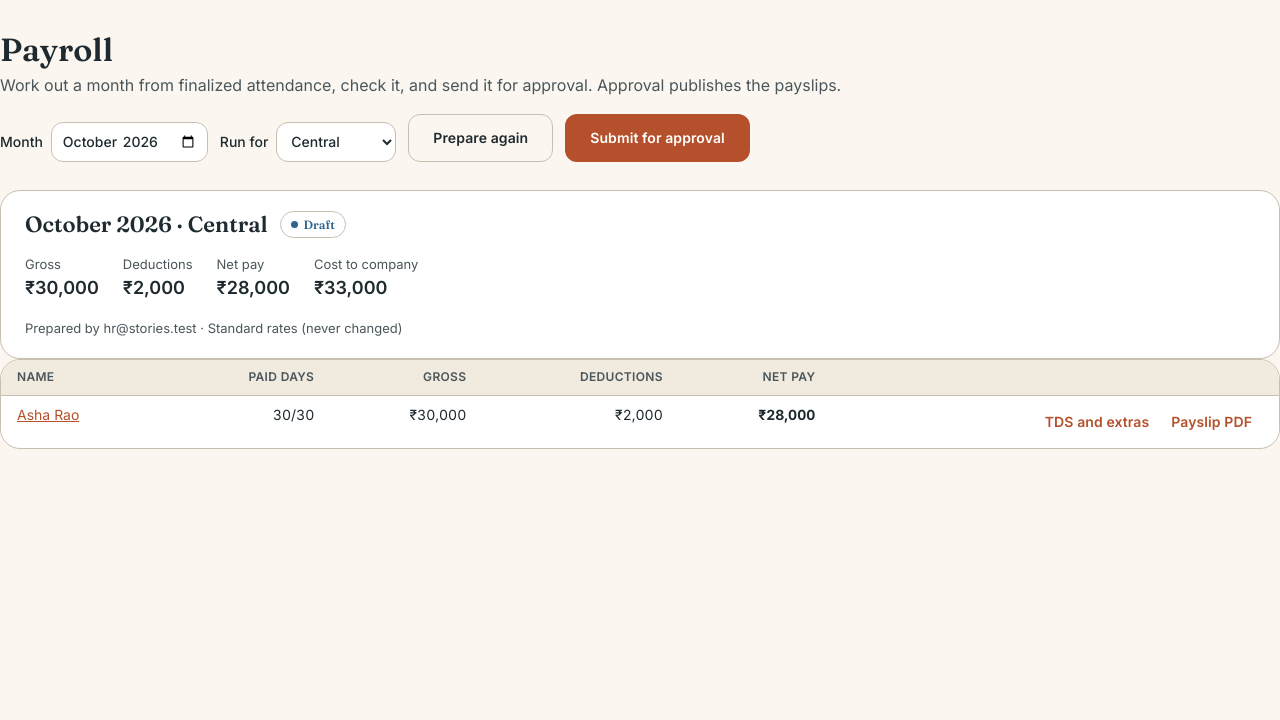
Scenario: TDS and extras › after a save the run is read again but not the payslips, and it counts as out of date at once
Click the button "TDS and extras": (1097,422) [1034,404,1160,440]
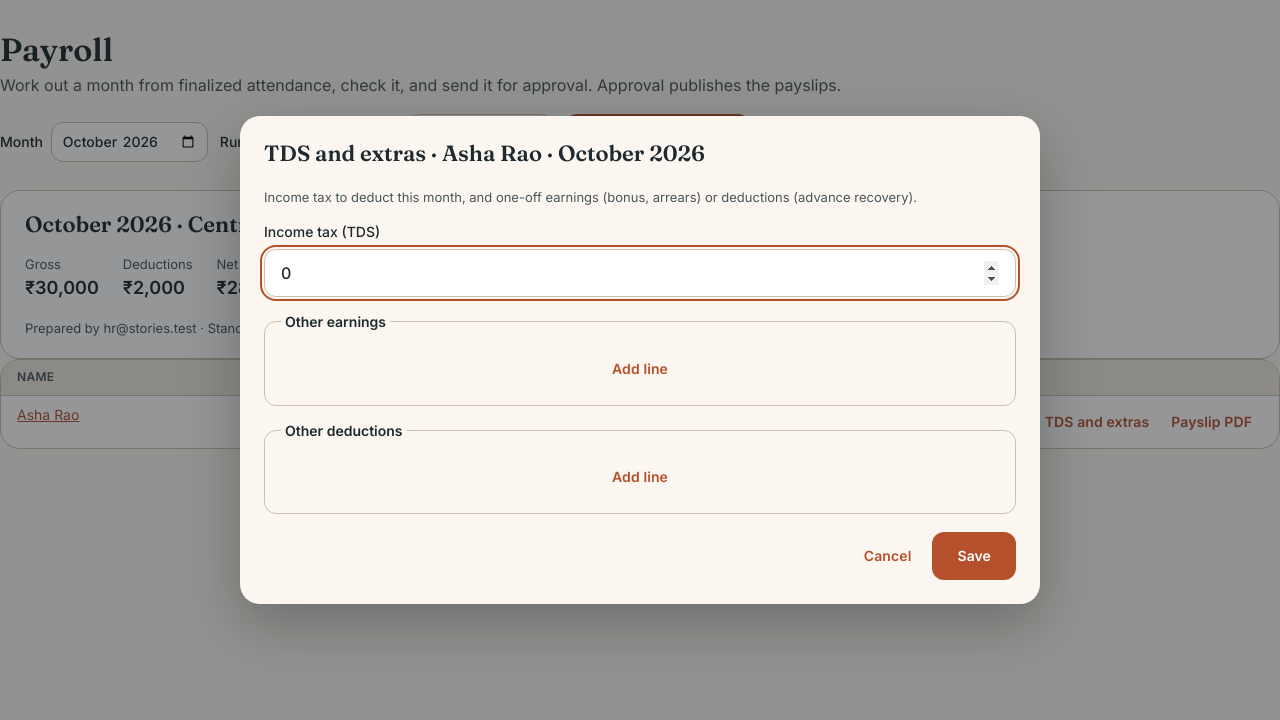
Check: the button "Submit for approval" is shown, box [565,114,750,162]
Replace the text in the number field labelled "Income tax (TDS)" with "1200": (640,273) [264,249,1016,297]
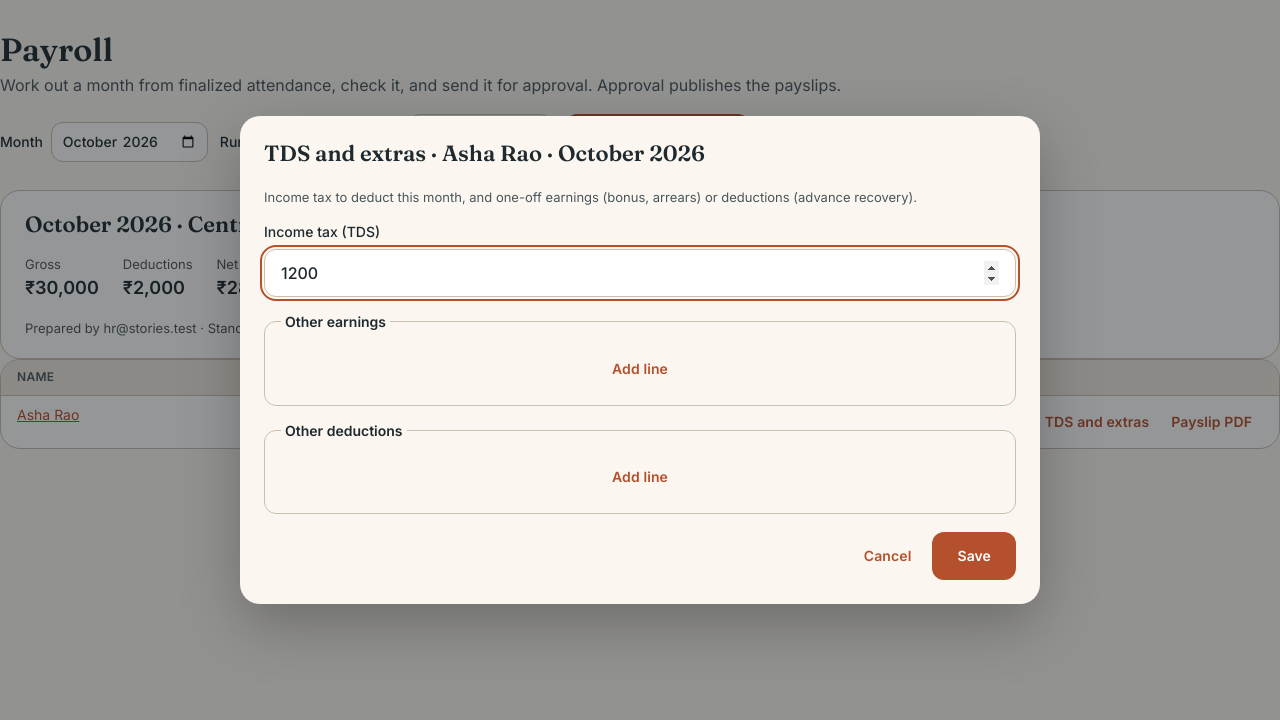
Click the button "Save": (974,556) [932,532,1016,580]
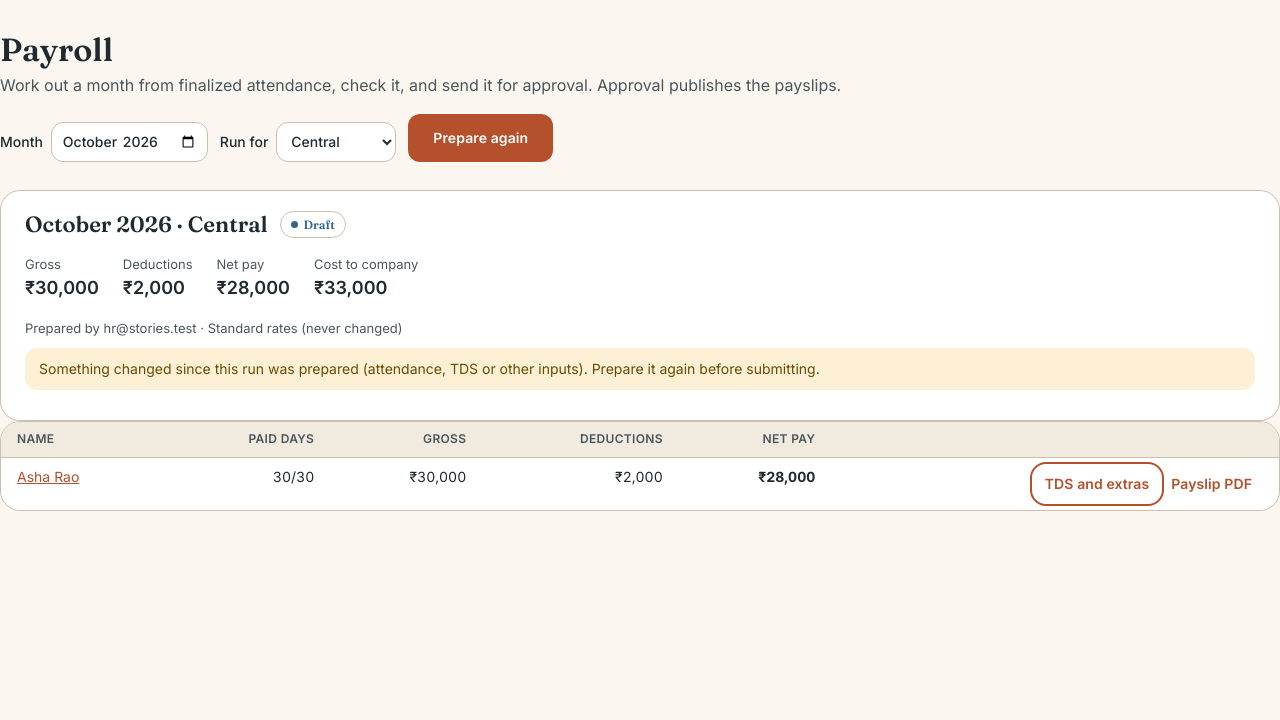
Check: the dialog is gone
Check: the text "Something changed since this run was prepared (attendance, TDS or other inputs). Prepare it again before submitting." is shown, box [39,360,820,377]
Check: the button "Submit for approval" is gone
